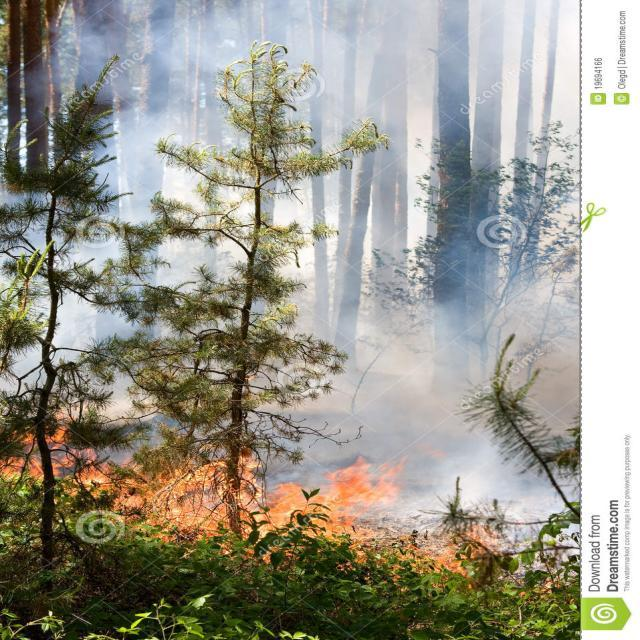Fire: (26, 428, 417, 560), (414, 527, 514, 600)
Smoke: (29, 0, 640, 428)
